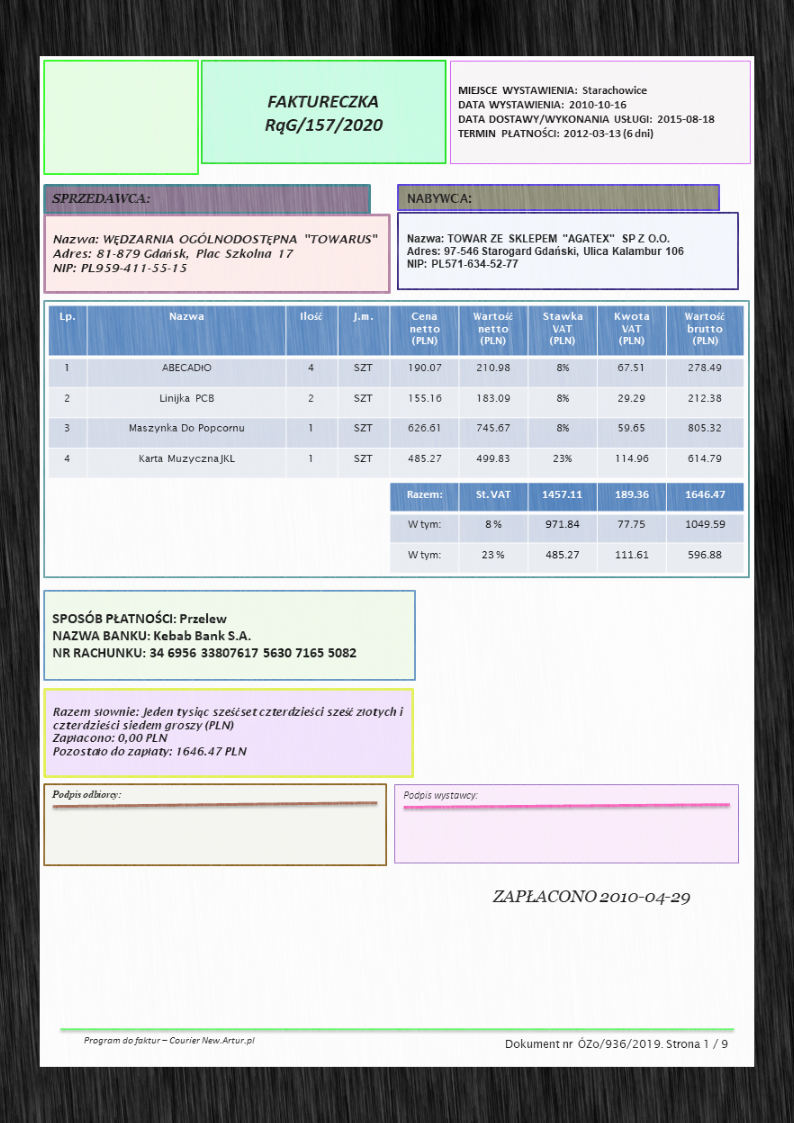Table: (47, 304, 744, 478), (388, 482, 745, 573)
TextBox: (50, 704, 406, 759), (49, 610, 359, 662), (456, 84, 716, 140), (50, 232, 379, 275), (404, 232, 685, 269), (262, 92, 384, 138), (491, 887, 692, 908), (503, 1037, 729, 1052), (80, 1034, 257, 1048), (49, 191, 151, 206), (404, 190, 474, 207), (402, 789, 479, 802), (50, 787, 123, 800)
